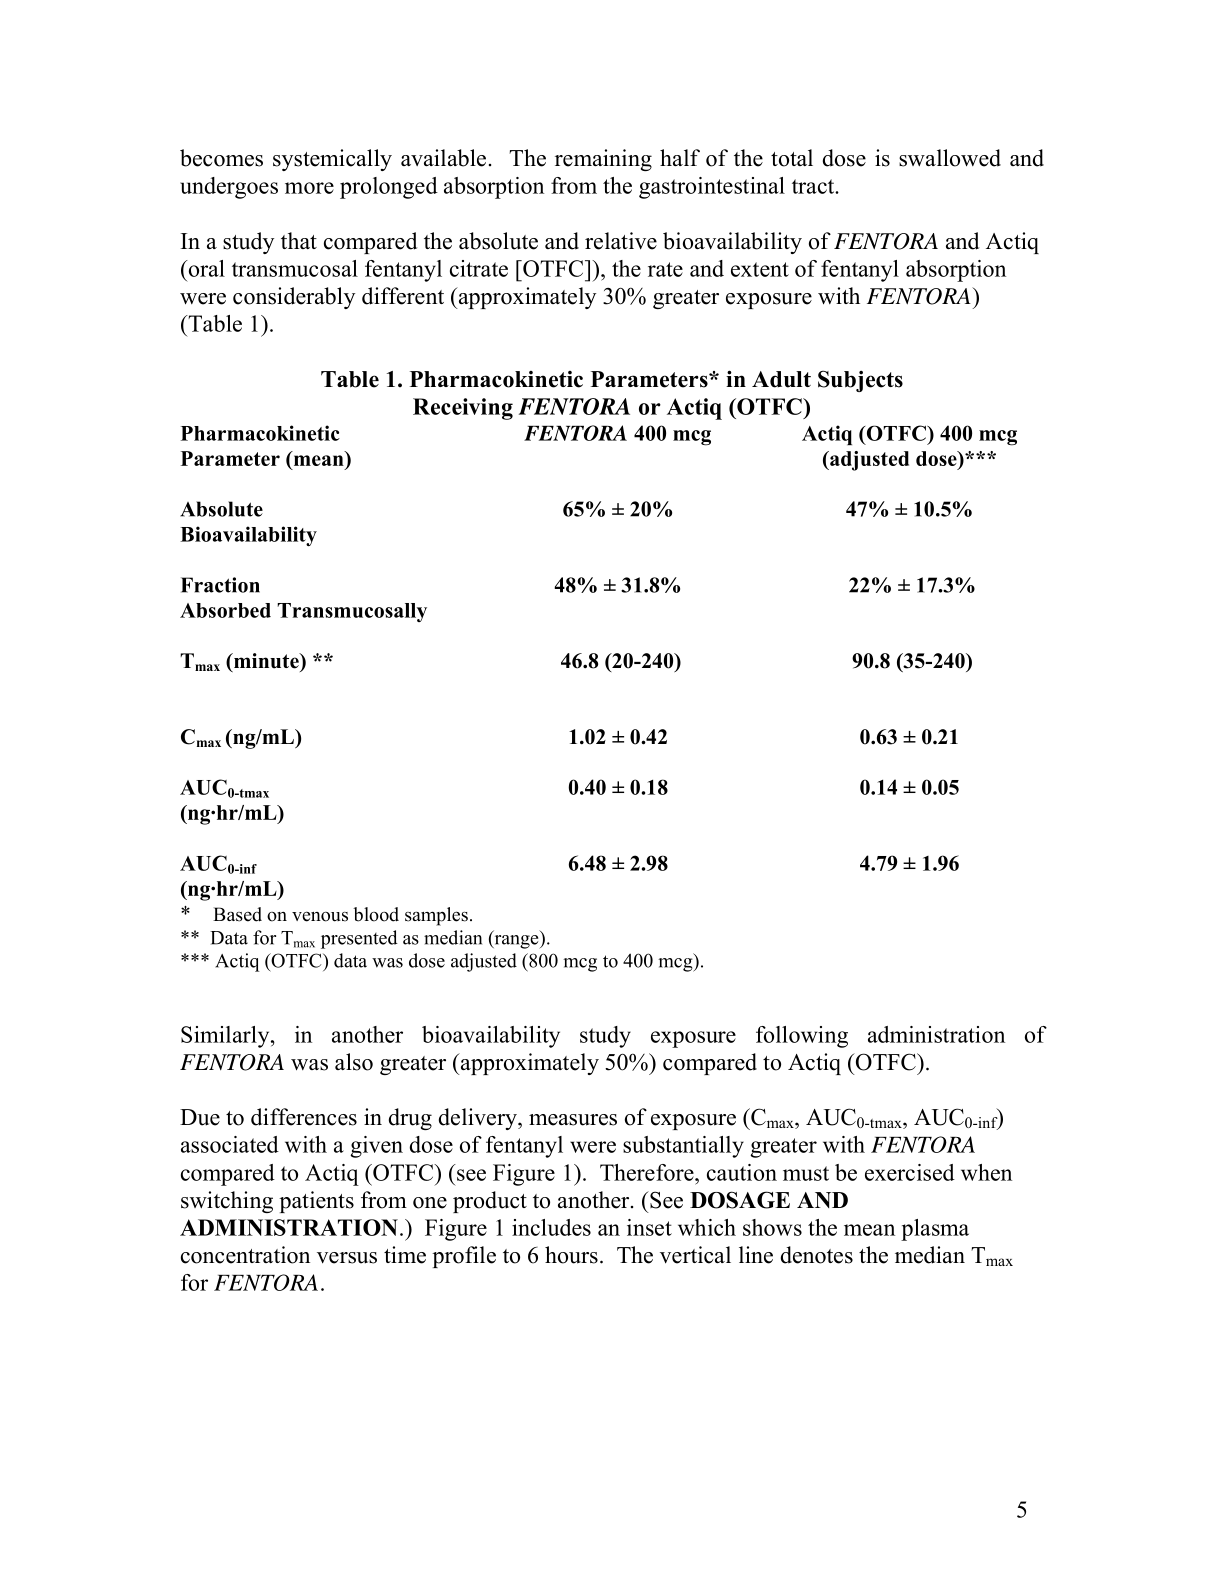nolines: (179, 419, 1016, 901)
